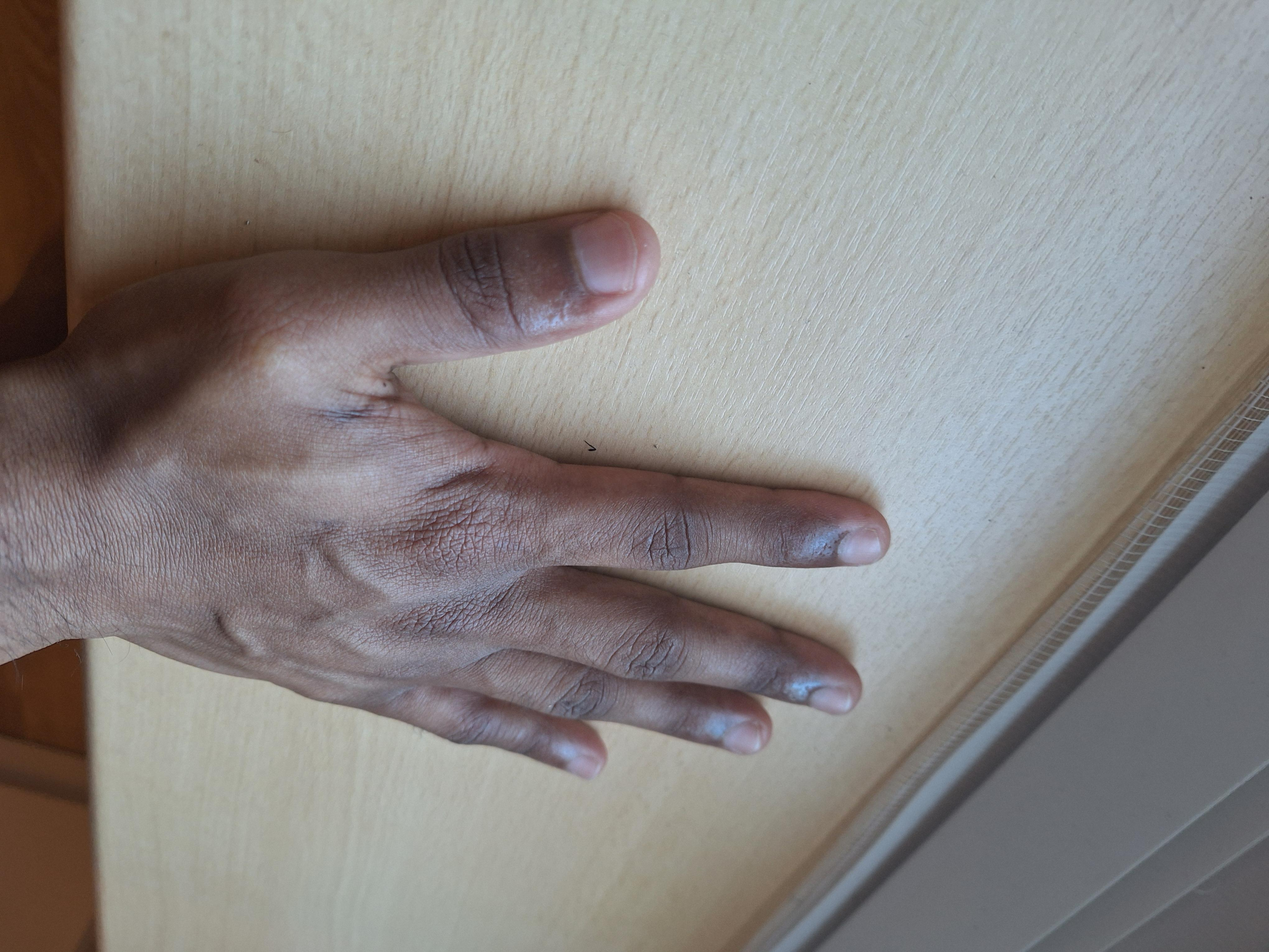Fingernail: (572, 211, 637, 294), (838, 528, 881, 564), (725, 722, 760, 754), (811, 689, 850, 715), (569, 756, 604, 780)
